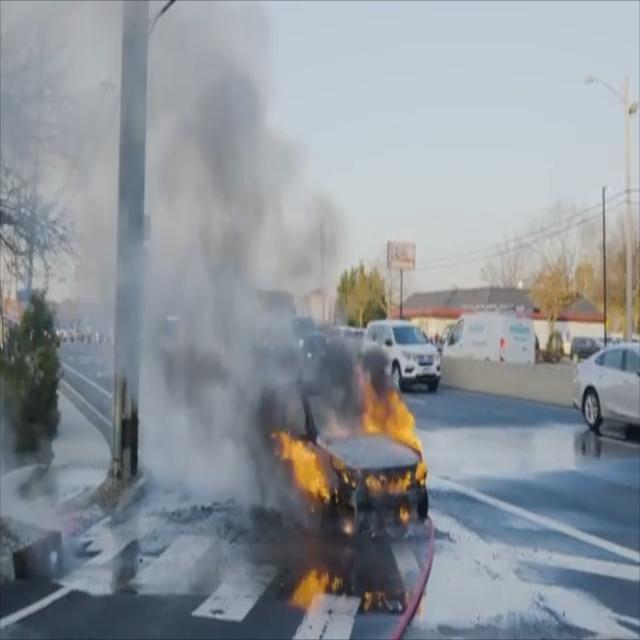fire: (278, 384, 424, 524), (293, 561, 415, 610)
